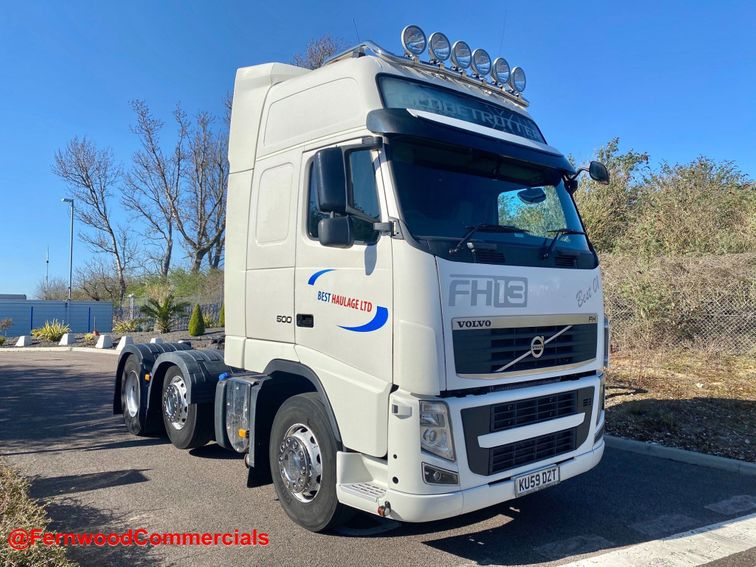Semi: (111, 24, 607, 533)
